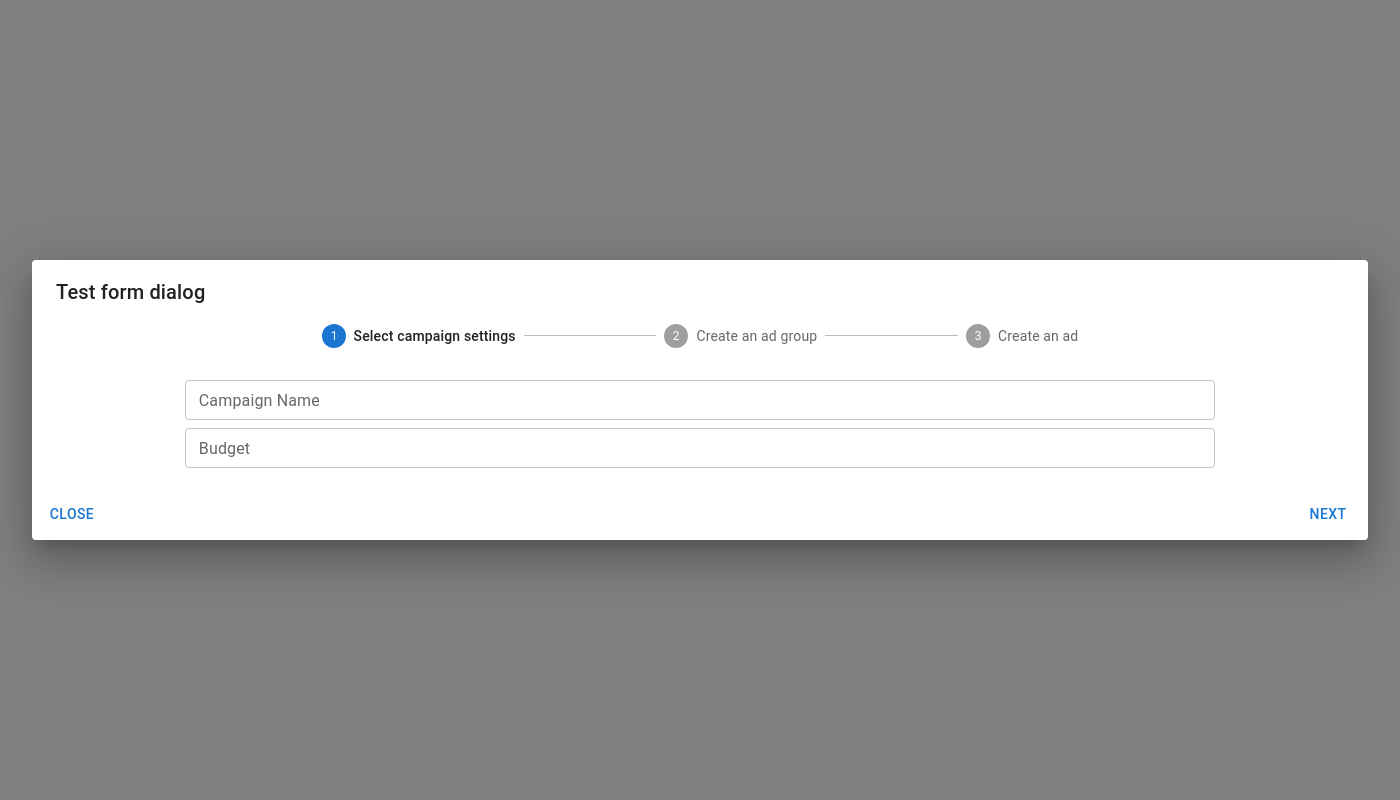
<Dialog /> › validates required fields when clicking Next
Click the button "Next". click: (1328, 515)
box: [1296,496,1360,533]
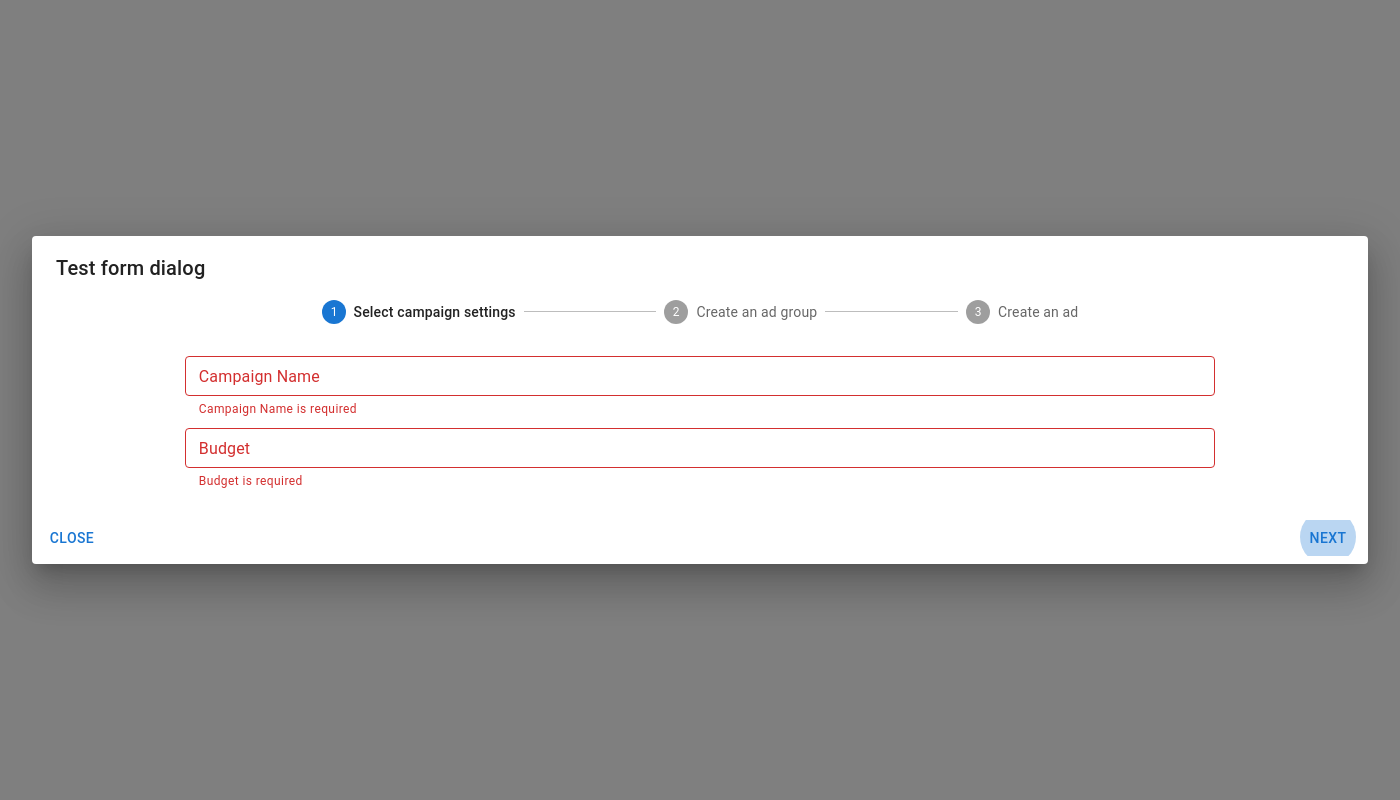
Expected: the text "Campaign Name is required" is shown, [199,402,357,416]
Expected: the text "Budget is required" is shown, [199,474,303,488]
